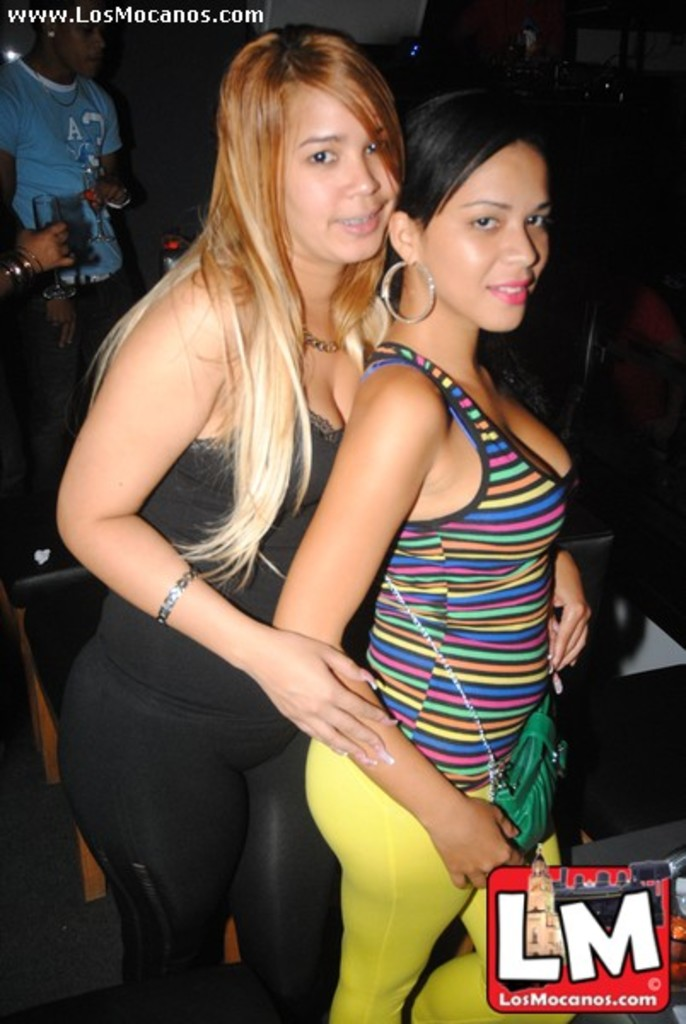Human_hand: (232, 616, 394, 756), (425, 797, 529, 894), (555, 553, 597, 681), (22, 222, 77, 278), (87, 169, 133, 210)
